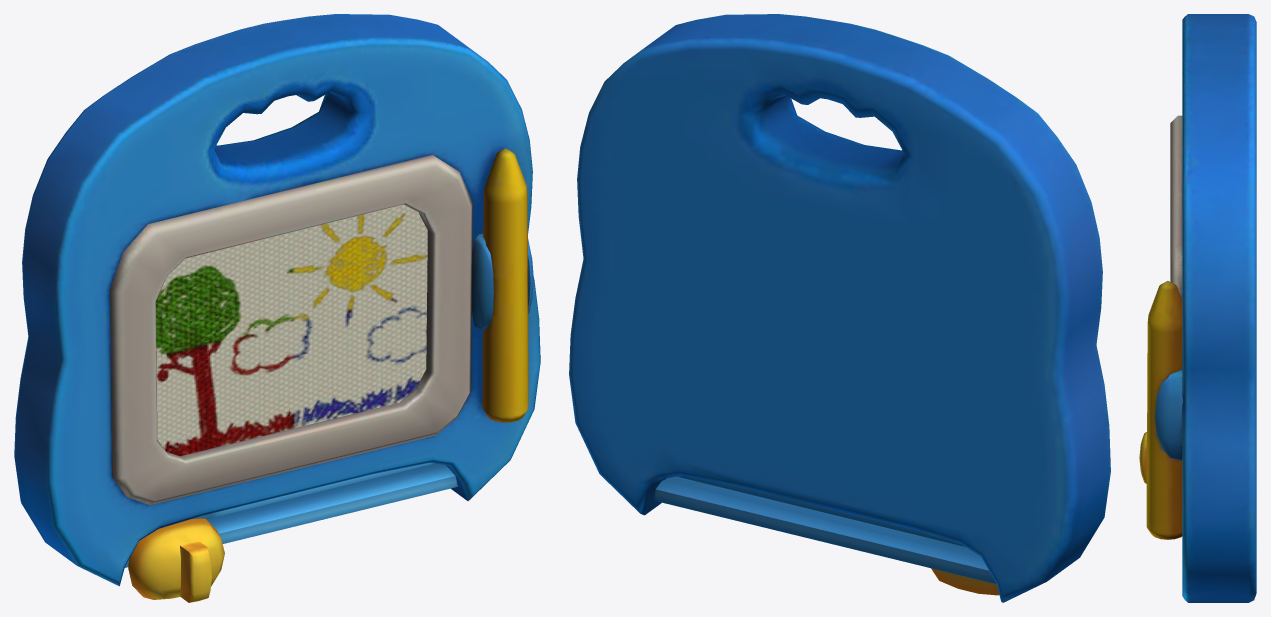
Rendered from 0-board_blue.fbx.
3 views of the same model, side by side, from view 1: azimuth 30°, elevation 25°; view 2: azimuth 150°, elevation 25°; view 3: azimuth 270°, elevation 25° (orthographic). The views are drawn at different scales.
Visible parts, largest first — view 1: 0-board_blue; view 2: 0-board_blue; view 3: 0-board_blue.
Boxes of the visible parts, x1,y1,x2,y2 form: 0-board_blue: (14,14,540,602); 0-board_blue: (569,14,1110,602); 0-board_blue: (1139,14,1256,602).
Size of the model in its own units: 95.1 by 95.43 by 20.72.
